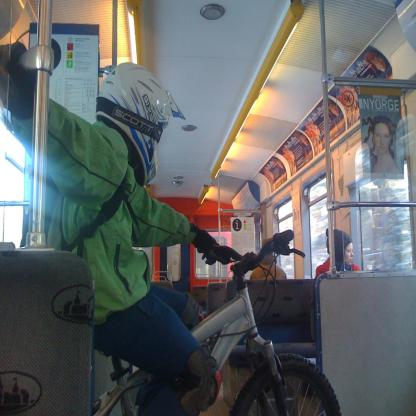Helmet: (89, 65, 182, 174)
